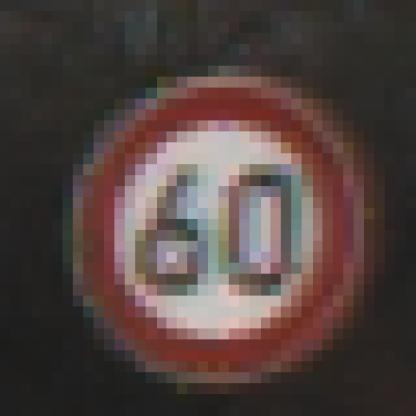Speed Limit 60: (86, 79, 352, 372)
